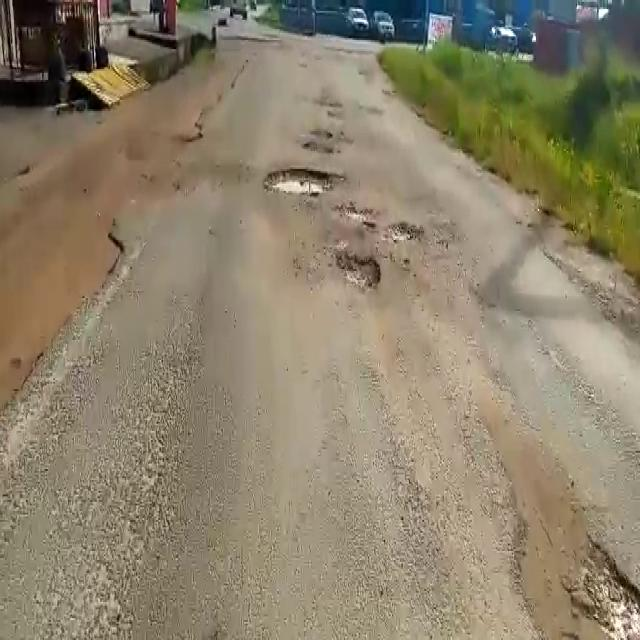Pothole: (575, 537, 640, 635), (263, 165, 342, 198), (334, 249, 381, 293), (384, 216, 426, 248), (337, 201, 379, 231)
